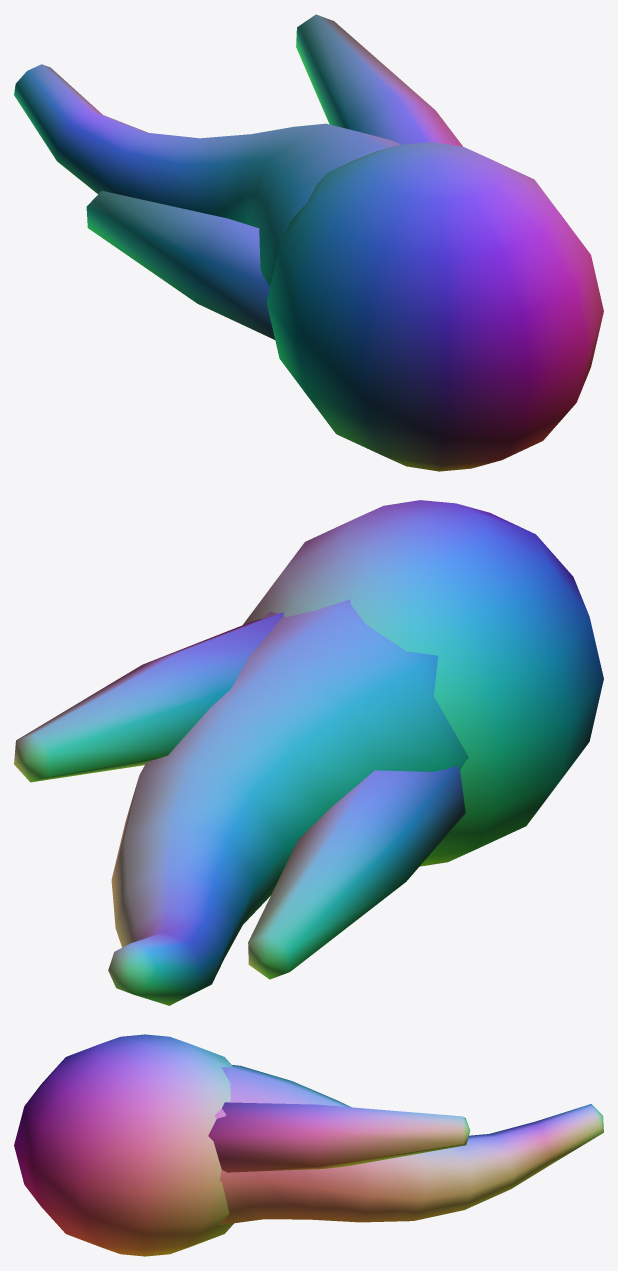
File: SM_FX_SpiritBolt.fbx
The picture shows the model from 3 angles, top to bottom: view 1: azimuth 30°, elevation 25°; view 2: azimuth 150°, elevation 25°; view 3: azimuth 270°, elevation 25°; orthographic projection. The views are drawn at different scales.
Visible parts, largest first — view 1: SM_FX_SpiritBolt; view 2: SM_FX_SpiritBolt; view 3: SM_FX_SpiritBolt.
Part boxes in pixels (box(x1,y1,x2,y2)): SM_FX_SpiritBolt: box(14, 14, 603, 471); SM_FX_SpiritBolt: box(14, 500, 603, 1005); SM_FX_SpiritBolt: box(14, 1034, 603, 1256).
Size of the model in its own units: 0.166 by 0.166 by 0.4405.
